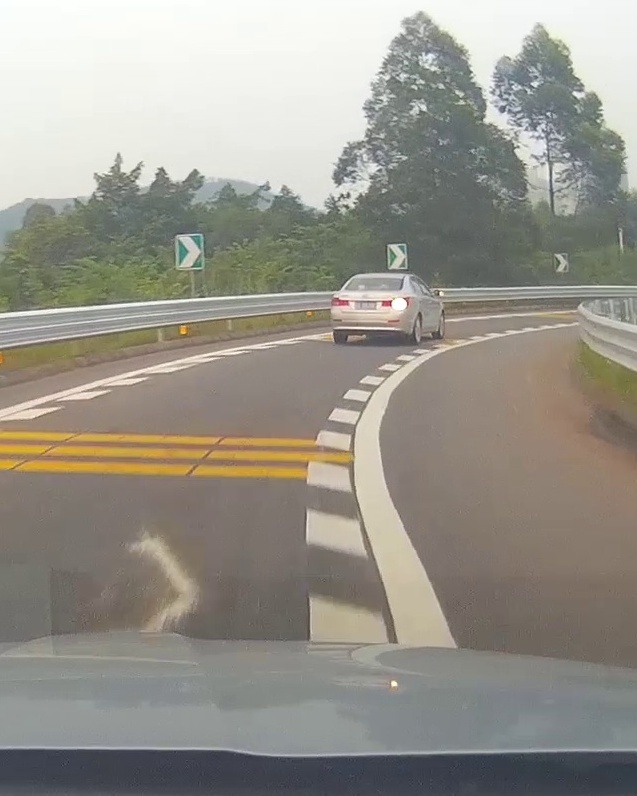L_light: (331, 297, 349, 306)
R_light: (381, 297, 408, 307)
T_light: (371, 278, 381, 281)
day-right: (330, 273, 410, 346)
